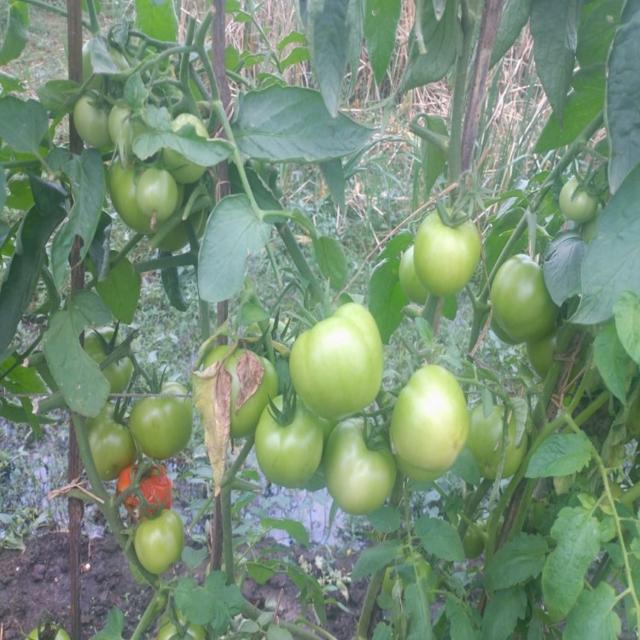tomato: (293, 301, 376, 420), (392, 364, 465, 479), (203, 346, 281, 436), (493, 255, 568, 340), (328, 421, 394, 516), (259, 393, 324, 488), (416, 208, 482, 293), (472, 403, 533, 482), (133, 390, 191, 457), (86, 36, 154, 91), (110, 153, 148, 243), (85, 408, 131, 481), (84, 333, 139, 393), (169, 114, 213, 186), (132, 518, 181, 576), (554, 175, 606, 228), (122, 462, 168, 514), (139, 168, 182, 222), (78, 91, 115, 149), (115, 98, 142, 154), (402, 248, 426, 304), (464, 522, 488, 556)
